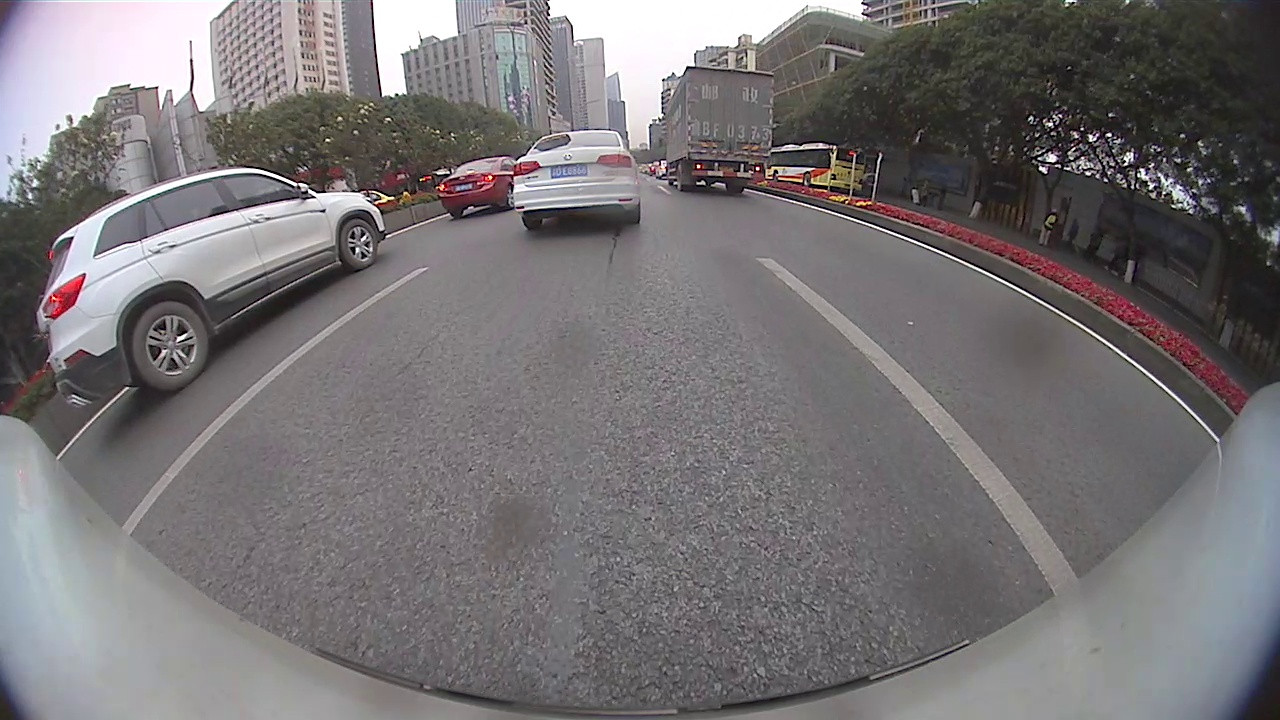bus: (766, 145, 872, 190)
car: (36, 165, 388, 410), (511, 127, 643, 233), (436, 154, 519, 219), (352, 184, 408, 208)
front: (339, 219, 379, 270)
rear: (130, 302, 210, 392), (676, 159, 686, 191), (802, 169, 813, 187)
truck: (664, 67, 777, 194)
